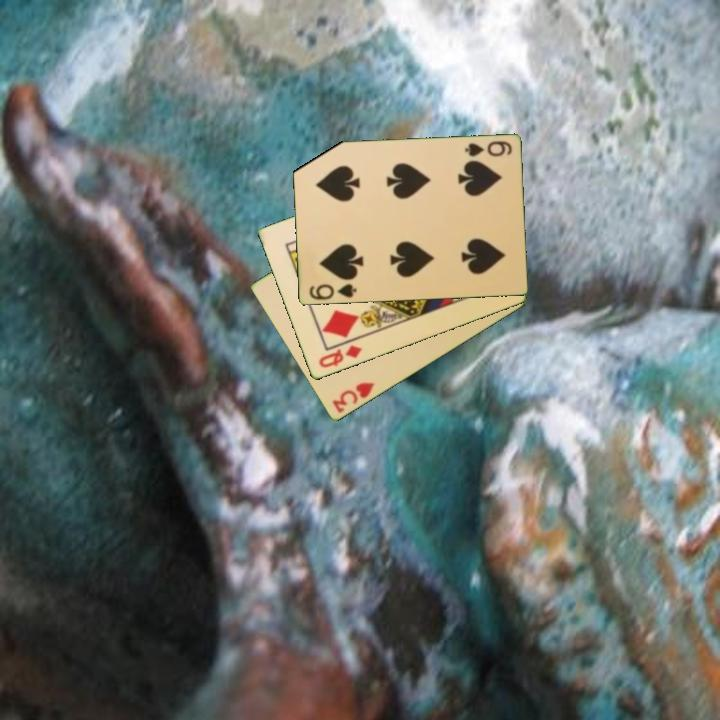3h: (328, 379, 377, 416)
6s: (306, 281, 359, 303), (461, 138, 514, 160)
Qd: (315, 342, 365, 371)
